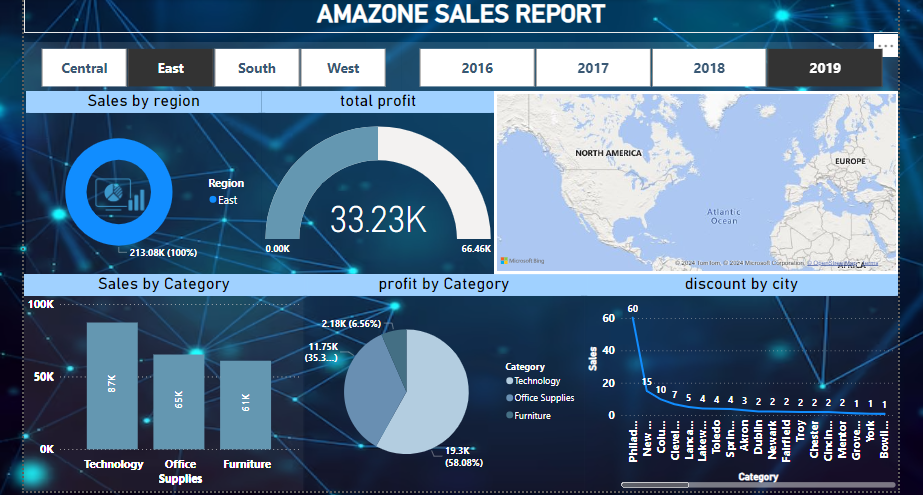

What the dashboard file says about the page in this screenshot:
{"tool":"powerbi","page":{"name":"Page 1","canvas":[1280,720],"ordinal":0},"visuals":[{"type":"columnChart","title":"Sales by Category","fields":{"Category":["Orders.Category"],"Y":["Sum(Orders.Sales)"]},"box":[0,402.9,409.3,317.1],"z":0},{"type":"pieChart","title":"profit by Category","fields":{"Category":["Orders.Category"],"Y":["Sum(Orders.Profit)"]},"box":[409.8,402.4,409.8,317.6],"z":1000},{"type":"lineChart","title":"discount by city","fields":{"Category":["Orders.City"],"Y":["Sum(Orders.Discount)"]},"box":[819.5,402.4,461,317.6],"z":2000},{"type":"donutChart","title":"Sales by region","fields":{"Category":["Orders.Region"],"Y":["Sum(Orders.Sales)"]},"box":[3.2,134.3,344.6,268.6],"z":3000},{"type":"gauge","title":"total profit","fields":{"Y":["Sum(Orders.Profit)"]},"box":[347.9,134.3,339.8,268.6],"z":4000},{"type":"textbox","title":"AMAZONE SALES REPORT","box":[0,0,1279.8,50.2],"z":5000},{"type":"slicer","fields":{"Values":["Orders.Region"]},"box":[0,62.9,553.2,71.7],"z":6000},{"type":"columnChart","title":"Sales by Category","fields":{"Category":["Orders.Category"],"Y":["Sum(Orders.Sales)"]},"box":[0,402.4,409.8,317.6],"z":7000},{"type":"slicer","fields":{"Values":["Orders (2).Order Date.Variation.Date Hierarchy.Year"]},"box":[553.2,62.9,727.3,71.7],"z":8000},{"type":"image","box":[20,254.3,240,62.9],"z":9000},{"type":"map","fields":{"Category":["Orders (2).City"],"Size":["CountNonNull(Orders (2).Order ID)"],"Series":["Orders (2).Country/Region"]},"box":[688,135,592,267],"z":10000}]}

Visuals, with their boxes in screenshot pixels (x1, y1, x2, y2):
"Sales by Category" columnChart: locate(26, 271, 304, 486)
"profit by Category" pieChart: locate(304, 271, 582, 486)
"discount by city" lineChart: locate(582, 271, 895, 486)
"Sales by region" donutChart: locate(29, 89, 262, 271)
"total profit" gauge: locate(262, 89, 493, 271)
"AMAZONE SALES REPORT" textbox: locate(26, 0, 894, 32)
slicer - Orders.Region: locate(26, 40, 402, 89)
"Sales by Category" columnChart: locate(26, 271, 304, 486)
slicer - Orders (2).Order Date.Variation.Date Hierarchy.Year: locate(402, 40, 895, 89)
image: locate(40, 170, 203, 213)
map - Orders (2).City x CountNonNull(Orders (2).Order ID): locate(493, 89, 895, 270)
